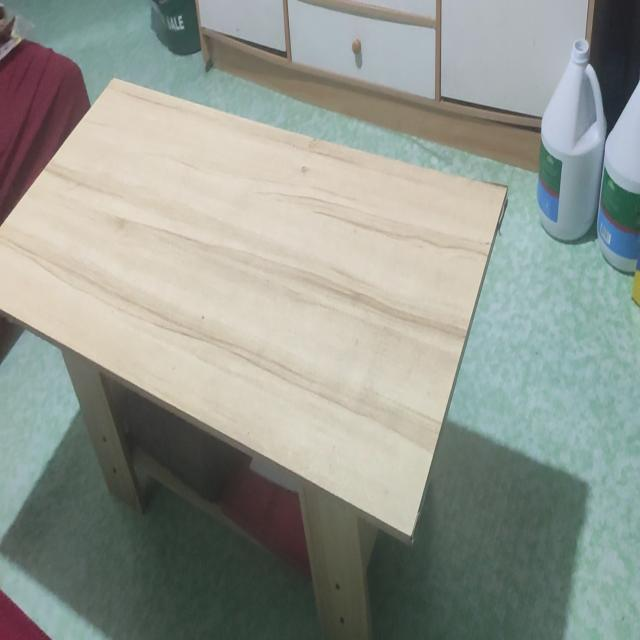table: (0, 76, 508, 640)
